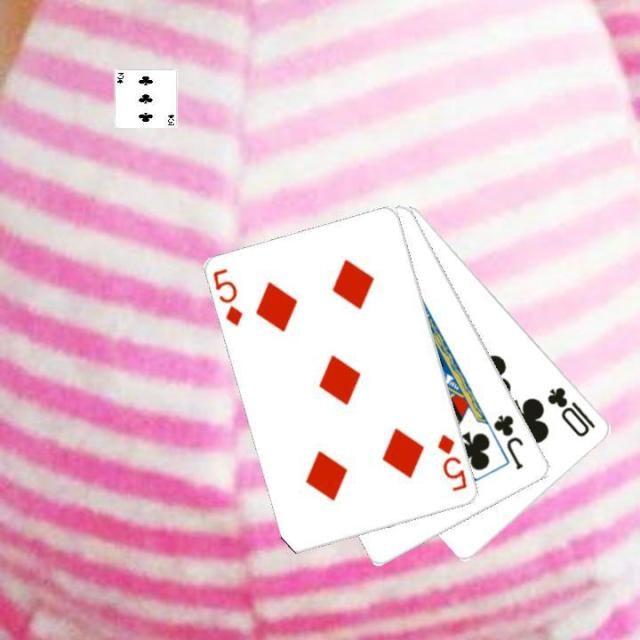10C: (543, 382, 598, 439)
5D: (209, 265, 245, 329), (434, 431, 469, 494)
JC: (490, 411, 526, 472)
